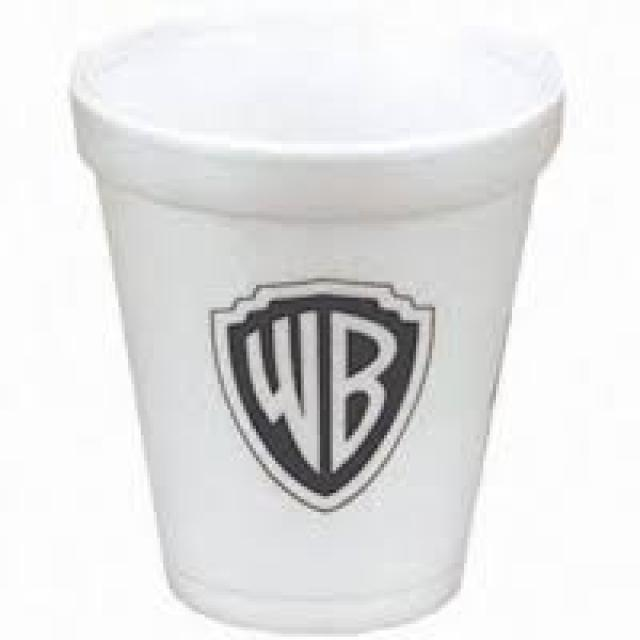trash: (68, 13, 560, 627)
